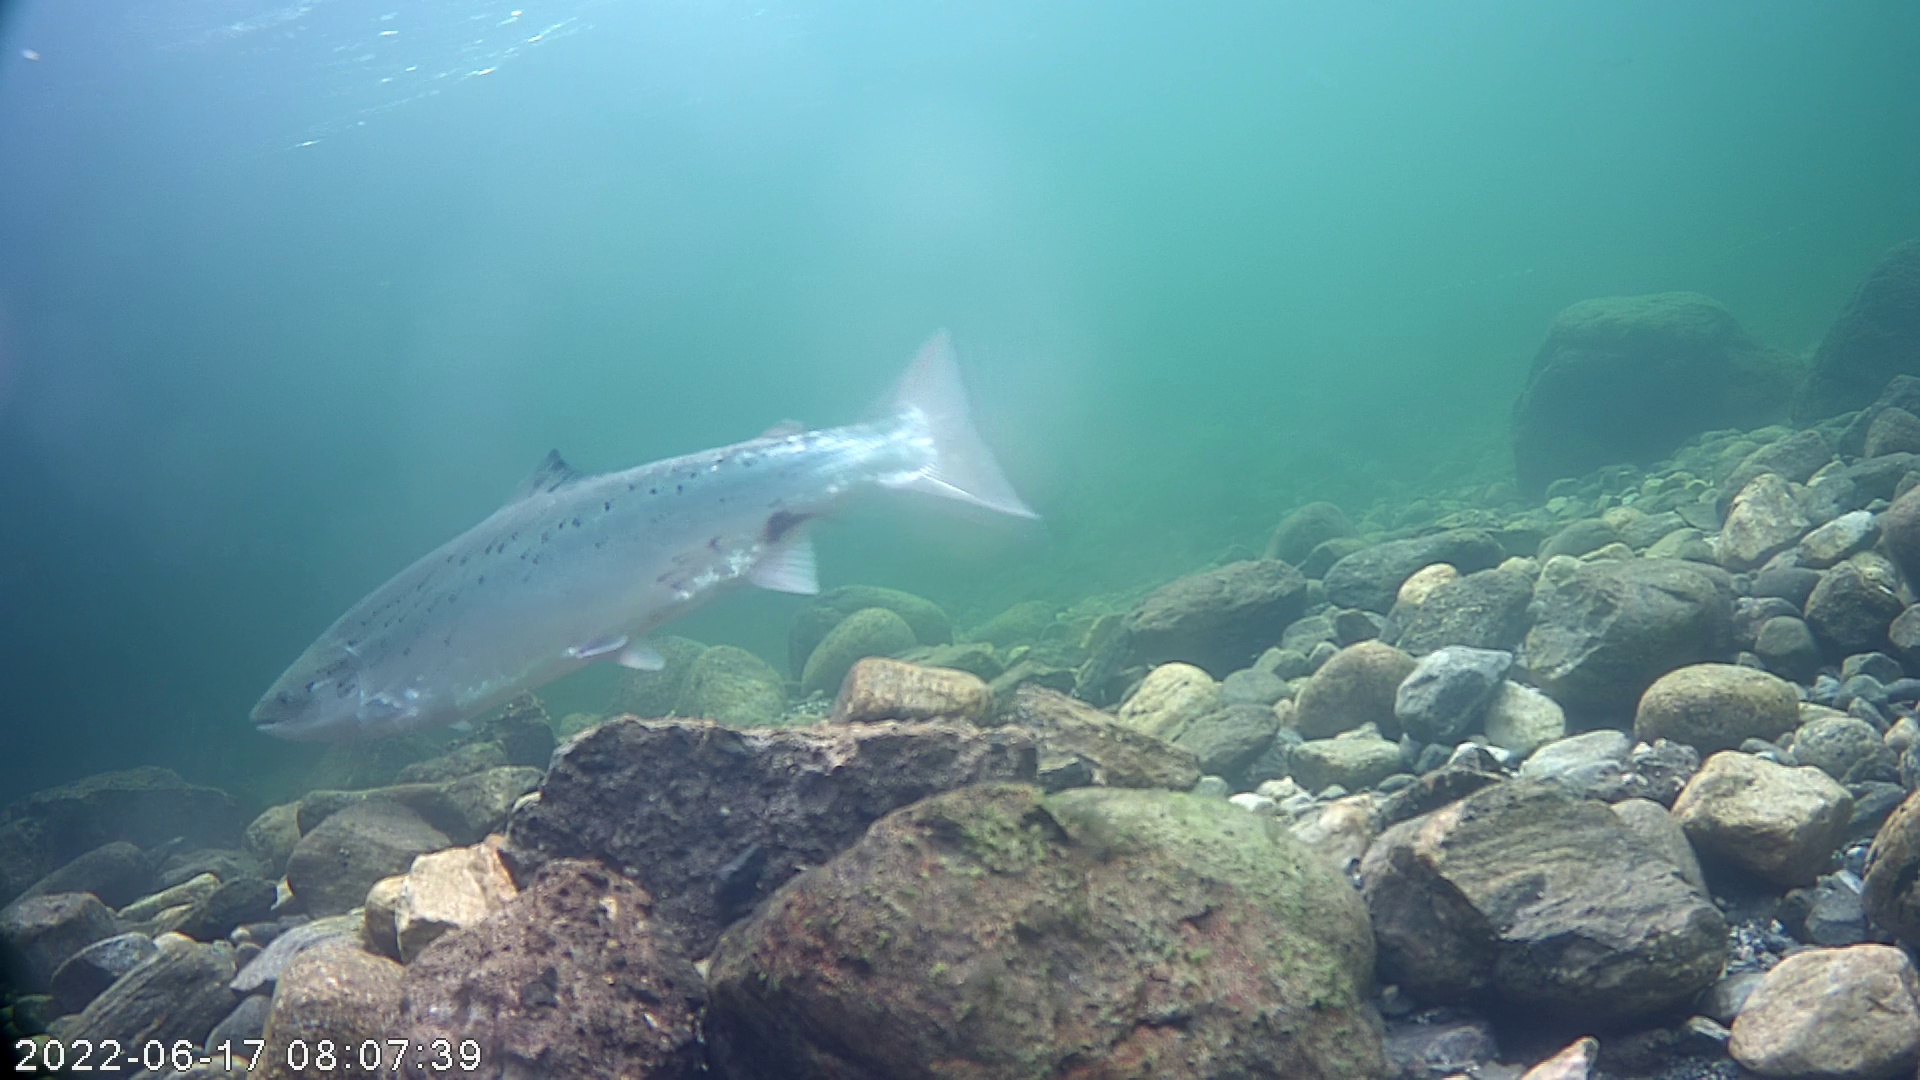salmon: (247, 323, 1048, 741)
